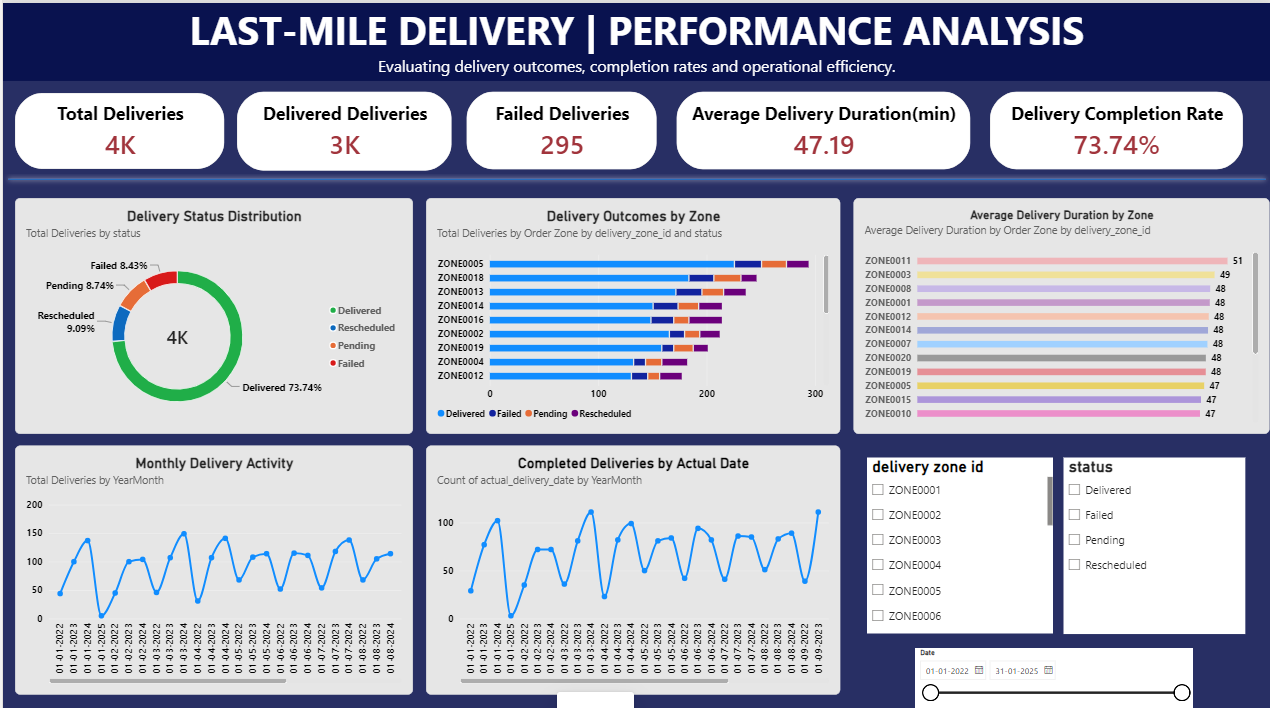

The page's visual inventory and layout, read from the dashboard file:
{"tool":"powerbi","page":{"name":"Page 4","canvas":[1920,1080],"ordinal":3},"visuals":[{"type":"textbox","box":[0,0,1919.3,118.1],"z":0},{"type":"cardVisual","fields":{"Data":["Delivery Performance.Total Deliveries"]},"box":[18.2,136.3,317.5,115],"z":1000},{"type":"cardVisual","fields":{"Data":["Delivery Performance.Delivered Deliveries"]},"box":[354.3,134,325,120],"z":2000},{"type":"cardVisual","fields":{"Data":["Avg(deliveries.delivery_duration_min)"]},"box":[1019.8,134,445.2,118.1],"z":3000},{"type":"cardVisual","fields":{"Data":["Delivery Performance.Failed Deliveries"]},"box":[701.8,134,288.5,118.1],"z":4000},{"type":"cardVisual","fields":{"Data":["Delivery Performance.Delivery Completion Rate"]},"box":[1494.5,134,383.9,118.1],"z":5000},{"type":"shape","box":[0,254.4,1920,25],"z":6000},{"type":"donutChart","title":"Delivery Status Distribution","fields":{"Category":["deliveries.status"],"Y":["Delivery Performance.Total Deliveries"]},"box":[17.5,295,602.5,357.5],"z":7000},{"type":"barChart","title":"Delivery Outcomes by Zone","fields":{"Category":["orders.delivery_zone_id"],"Series":["deliveries.status"],"Y":["Delivery Demand.Total Deliveries by Order Zone"]},"box":[640,295,627.5,357.5],"z":8000},{"type":"clusteredBarChart","title":"Average Delivery Duration by Zone","fields":{"Category":["orders.delivery_zone_id"],"Y":["Delivery Demand.Average Delivery Duration by Order Zone"]},"box":[1287.5,295,630,357.5],"z":9000},{"type":"lineChart","title":"Monthly Delivery Activity","fields":{"Category":["date_table.YearMonth"],"Y":["Delivery Performance.Total Deliveries"]},"box":[17.5,670,602.5,377.5],"z":10000},{"type":"lineChart","title":"Completed Deliveries by Actual Date","fields":{"Category":["date_table.YearMonth"],"Y":["CountNonNull(deliveries.actual_delivery_date)"]},"box":[640,670,627.5,377.5],"z":11000},{"type":"slicer","fields":{"Values":["orders.delivery_zone_id"]},"box":[1307.5,687.5,281.6,265.7],"z":12000},{"type":"slicer","fields":{"Values":["date_table.Date"]},"box":[1381,976.7,420.2,93.1],"z":13000},{"type":"slicer","fields":{"Values":["deliveries.status"]},"box":[1605,687.5,275,267.5],"z":14000}]}

Visuals, with their boxes in screenshot pixels (x1, y1, x2, y2), scaled from the page's 1920x1080 canvas onto the 1270x708 screenshot:
textbox: <box>0,0,1269,77</box>
cardVisual - Delivery Performance.Total Deliveries: <box>12,89,222,165</box>
cardVisual - Delivery Performance.Delivered Deliveries: <box>234,88,449,167</box>
cardVisual - Avg(deliveries.delivery_duration_min): <box>675,88,969,165</box>
cardVisual - Delivery Performance.Failed Deliveries: <box>464,88,655,165</box>
cardVisual - Delivery Performance.Delivery Completion Rate: <box>989,88,1242,165</box>
shape: <box>0,167,1269,183</box>
"Delivery Status Distribution" donutChart: <box>12,193,410,428</box>
"Delivery Outcomes by Zone" barChart: <box>423,193,838,428</box>
"Average Delivery Duration by Zone" clusteredBarChart: <box>852,193,1268,428</box>
"Monthly Delivery Activity" lineChart: <box>12,439,410,687</box>
"Completed Deliveries by Actual Date" lineChart: <box>423,439,838,687</box>
slicer - orders.delivery_zone_id: <box>865,451,1051,625</box>
slicer - date_table.Date: <box>913,640,1191,701</box>
slicer - deliveries.status: <box>1062,451,1244,626</box>
